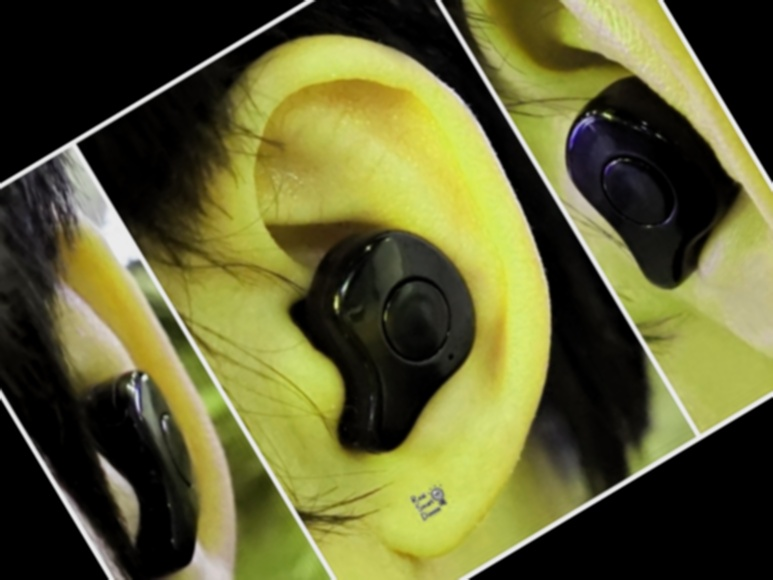earphone: (142, 0, 661, 575), (424, 0, 773, 419), (0, 194, 336, 580)
